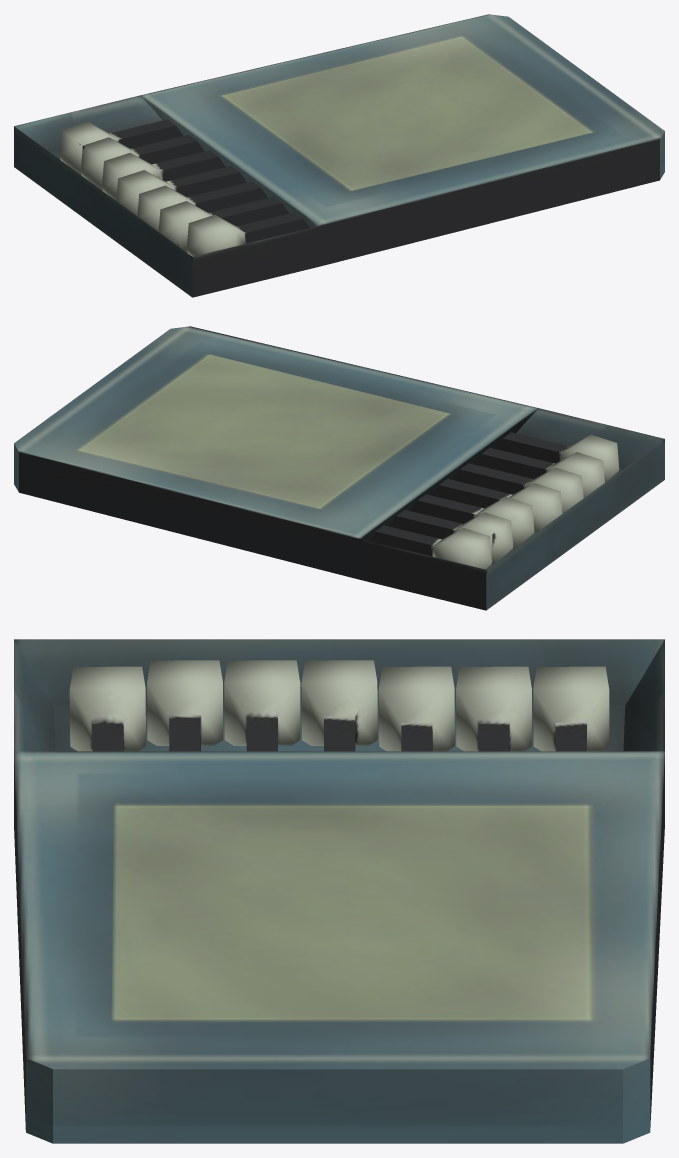
The model's file is Matchbox.FBX.
3 renders of one model, top to bottom at view 1: azimuth 30°, elevation 25°; view 2: azimuth 150°, elevation 25°; view 3: azimuth 270°, elevation 25°, orthographic. The views are drawn at different scales.
Visible parts, largest first — view 1: Box120; view 2: Box120; view 3: Box120.
Part boxes in pixels (x1,y1,x2,y2): Box120: (14, 14, 664, 297); Box120: (14, 326, 664, 610); Box120: (14, 639, 664, 1143).
Bounding box in the file's own units: 25.8 × 2.16 × 16.51.
1 material, 1 textured.
